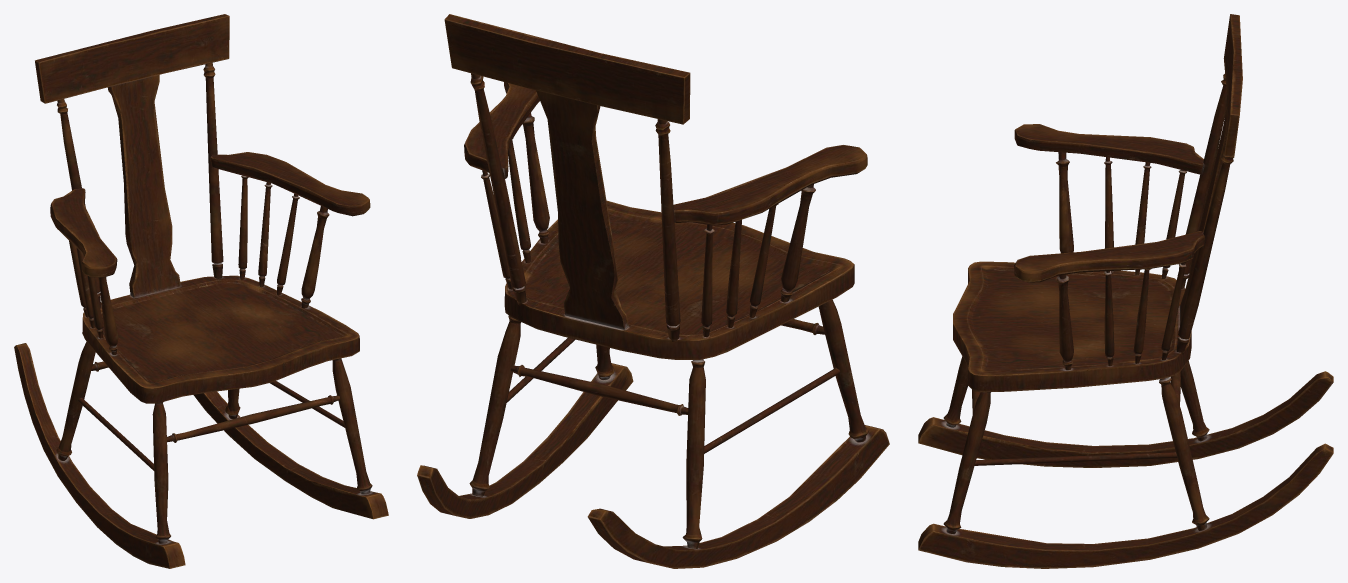
Rendered from Rockingchair_01_lod2.glb.
The picture shows the model from 3 angles, left to right: view 1: azimuth 30°, elevation 25°; view 2: azimuth 150°, elevation 25°; view 3: azimuth 270°, elevation 25°; orthographic projection. The views are drawn at different scales.
Parts seen in each view (by area): view 1: Rockingchair_01; view 2: Rockingchair_01; view 3: Rockingchair_01.
Part boxes in pixels (x1=…): Rockingchair_01: x1=14, y1=14, x2=388, y2=568; Rockingchair_01: x1=417, y1=14, x2=889, y2=568; Rockingchair_01: x1=918, y1=14, x2=1333, y2=568.
Bounding box in the file's own units: 0.7081 × 0.9949 × 0.8335.
1 material, 1 textured.
